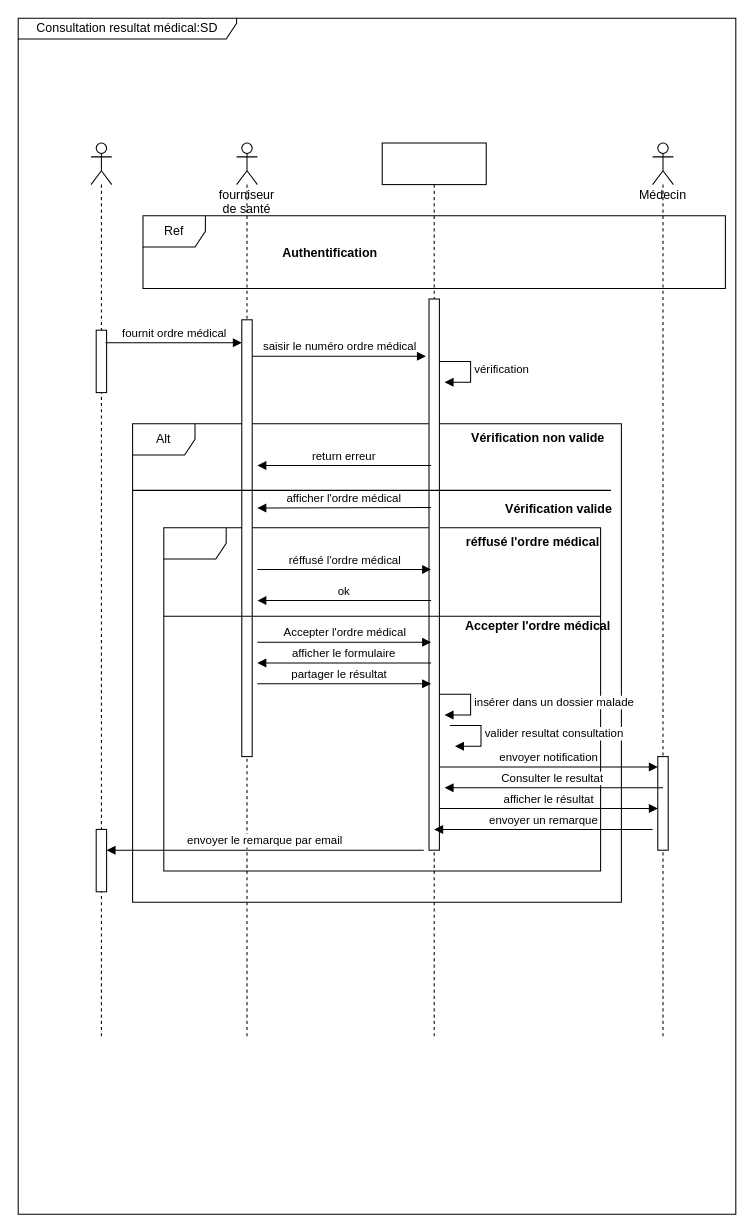
This 754x1232 diagram has some shape labels left out. The shapes that lost their labels are listed below. From the top down, each one's box as (x1, y1, x2, y2) in pixels, then its label:
(90, 142, 112, 1037): patient
(381, 142, 486, 1037): :System
(163, 527, 601, 871): opt
